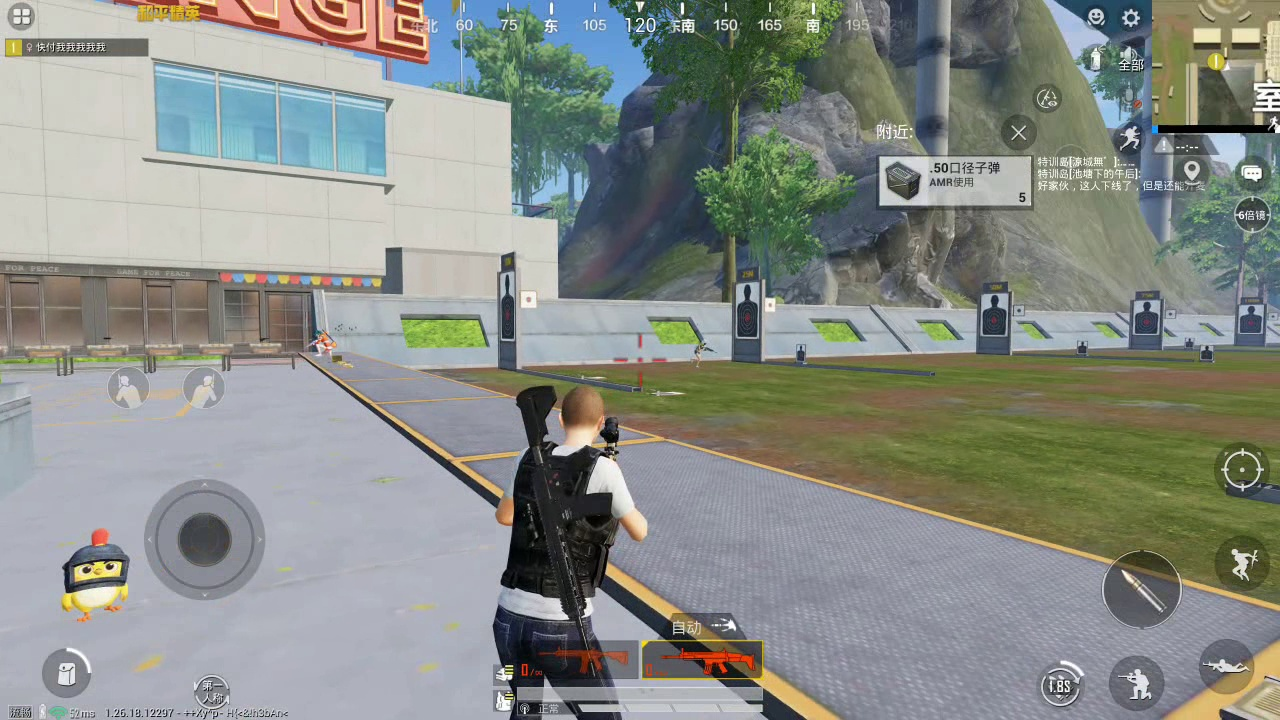enemy: (309, 327, 337, 357), (691, 336, 710, 365)
